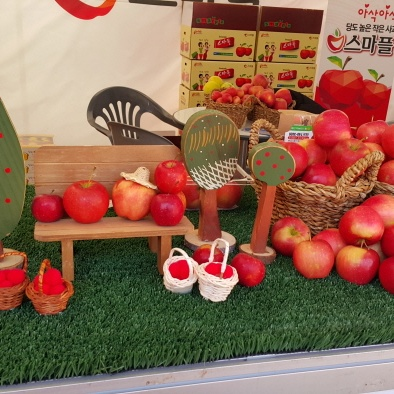apple: (62, 177, 113, 225), (338, 202, 387, 248), (111, 176, 153, 224), (324, 138, 369, 180), (294, 240, 333, 283), (337, 243, 377, 282), (149, 193, 191, 229), (318, 110, 354, 152), (273, 216, 310, 255), (269, 141, 307, 177), (232, 248, 266, 287), (155, 159, 188, 196), (302, 161, 339, 192), (360, 194, 394, 226), (297, 137, 329, 169), (354, 118, 385, 149), (35, 191, 65, 222), (311, 226, 343, 253), (374, 158, 394, 187), (199, 246, 223, 270), (378, 257, 394, 289), (275, 83, 296, 104), (382, 127, 394, 158), (250, 74, 271, 89), (259, 88, 275, 106), (244, 85, 258, 97)
